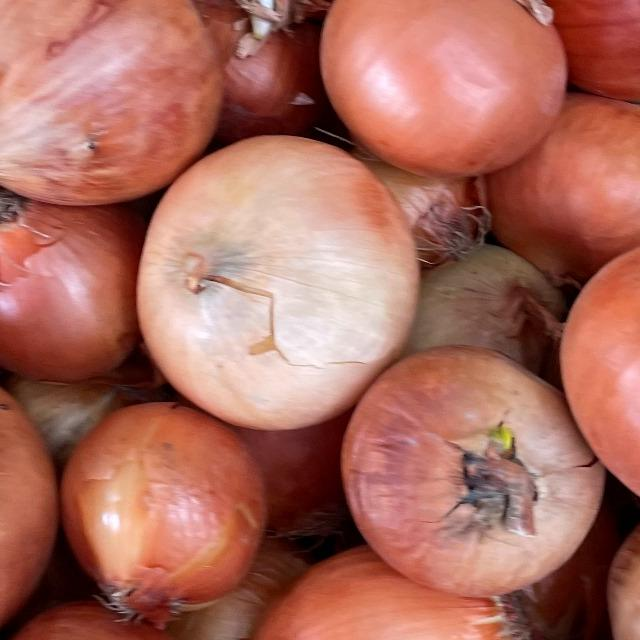onion: (128, 120, 425, 440), (338, 332, 620, 605), (310, 0, 597, 177)
